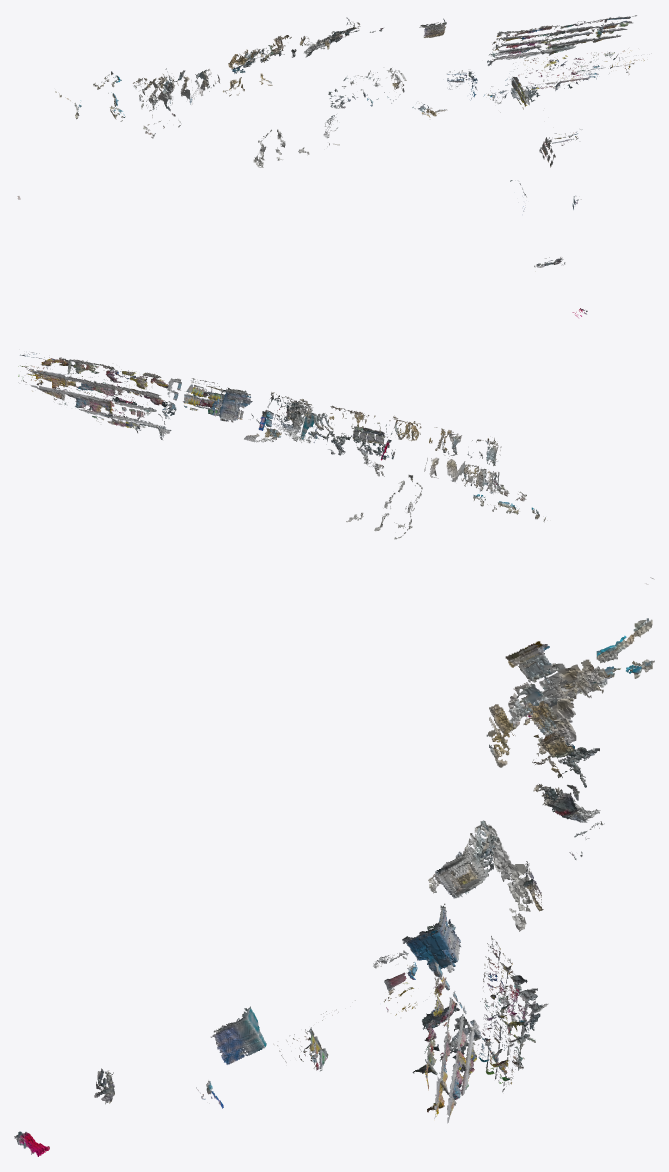
File: surfaces-1.glb
3 views of the same model, one above another, from view 1: azimuth 30°, elevation 25°; view 2: azimuth 150°, elevation 25°; view 3: azimuth 270°, elevation 25° (orthographic). The views are drawn at different scales.
Parts seen in each view (by area): view 1: obj-1-481, obj-1-1261; view 2: obj-1-1130, obj-1-482, obj-1-1199, obj-1-1220, obj-1-1190; view 3: obj-1-1220, obj-1-654, obj-1-1130, obj-1-1199, obj-1-482, obj-1-1420, obj-1-1190, obj-1-1412.
Boxes of the visible parts, x1,y1,x2,y2 form: obj-1-481: [538, 19, 609, 55]; obj-1-1261: [487, 25, 559, 65]; obj-1-1130: [29, 357, 136, 420]; obj-1-482: [211, 389, 251, 420]; obj-1-1199: [424, 457, 493, 493]; obj-1-1220: [346, 475, 422, 539]; obj-1-1190: [447, 432, 501, 465]; obj-1-1220: [476, 820, 532, 931]; obj-1-654: [218, 1006, 266, 1064]; obj-1-1130: [414, 1031, 469, 1123]; obj-1-1199: [550, 664, 594, 743]; obj-1-482: [416, 913, 460, 970]; obj-1-1420: [573, 618, 654, 694]; obj-1-1190: [508, 652, 552, 717]; obj-1-1412: [436, 833, 488, 898].
Bounding box in the file's own units: 37.46 × 11.8 × 21.48.
